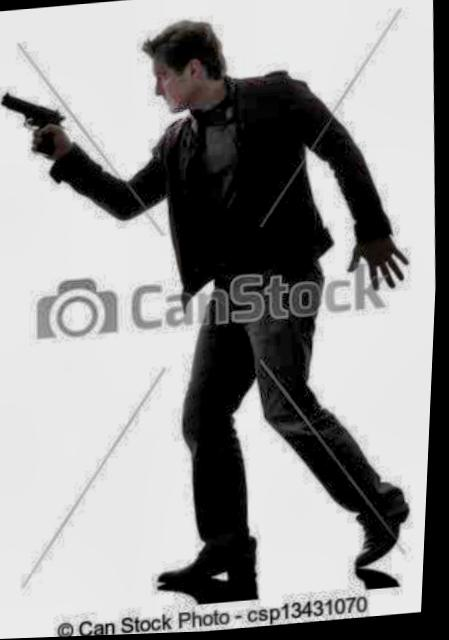pistol: (0, 87, 70, 142)
